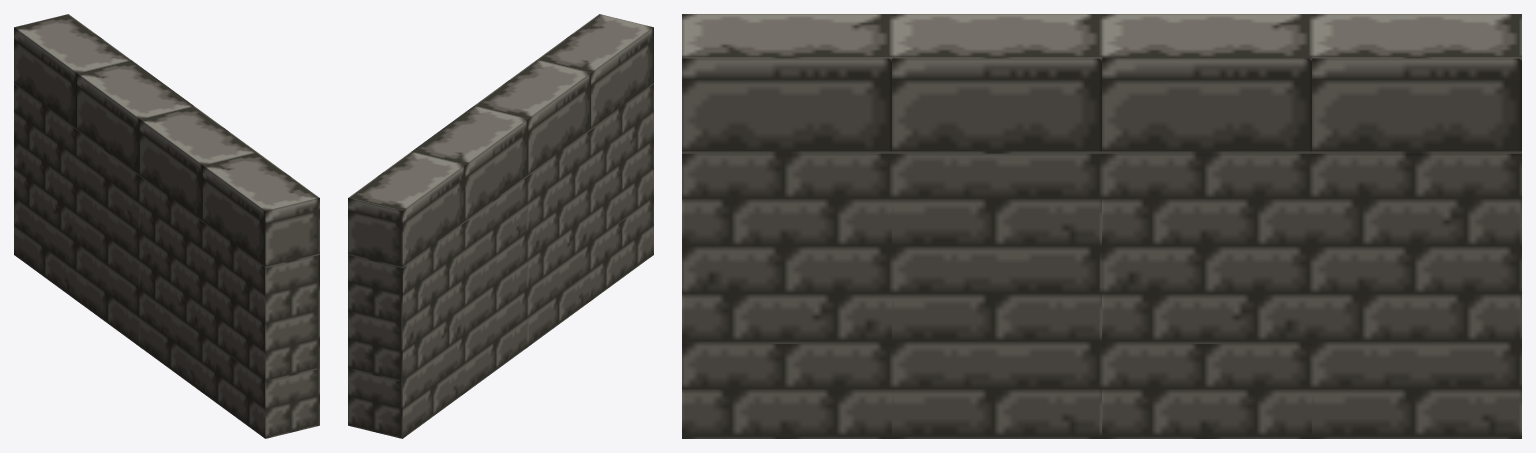
File: Wall_Short_x4.fbx
3 renders of one model, left to right at view 1: azimuth 30°, elevation 25°; view 2: azimuth 150°, elevation 25°; view 3: azimuth 270°, elevation 25°, orthographic. The views are drawn at different scales.
Parts seen in each view (by area): view 1: Wall_Short_x4; view 2: Wall_Short_x4; view 3: Wall_Short_x4.
Part boxes in pixels (x1,y1,x2,y2): Wall_Short_x4: [14, 14, 319, 438]; Wall_Short_x4: [348, 14, 653, 438]; Wall_Short_x4: [682, 14, 1521, 438].
Size of the model in its own units: 100 by 400 by 800.
Materials: 1 (1 with a texture image).
